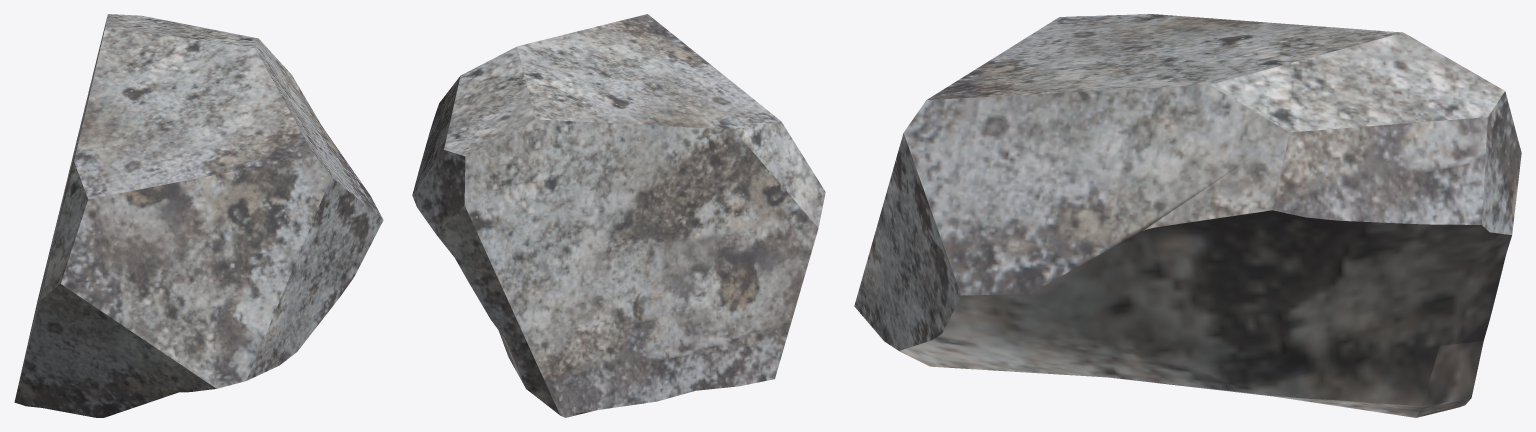
Rendered from Asteroid_Large_001_02_008_03_029.fbx.
The picture shows the model from 3 angles, left to right: view 1: azimuth 30°, elevation 25°; view 2: azimuth 150°, elevation 25°; view 3: azimuth 270°, elevation 25°; orthographic projection. The views are drawn at different scales.
Parts seen in each view (by area): view 1: Asteroid_Large_001_02_008_03_029; view 2: Asteroid_Large_001_02_008_03_029; view 3: Asteroid_Large_001_02_008_03_029.
Part boxes in pixels (x1,y1,x2,y2): Asteroid_Large_001_02_008_03_029: [14, 14, 383, 417]; Asteroid_Large_001_02_008_03_029: [412, 14, 825, 417]; Asteroid_Large_001_02_008_03_029: [854, 14, 1521, 417].
Bounding box in the file's own units: 9.63 × 8.27 × 11.82.
